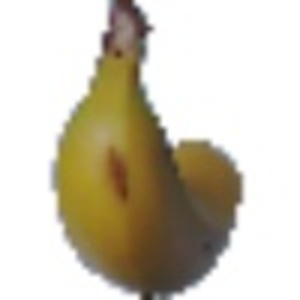banana: (49, 3, 251, 293)
